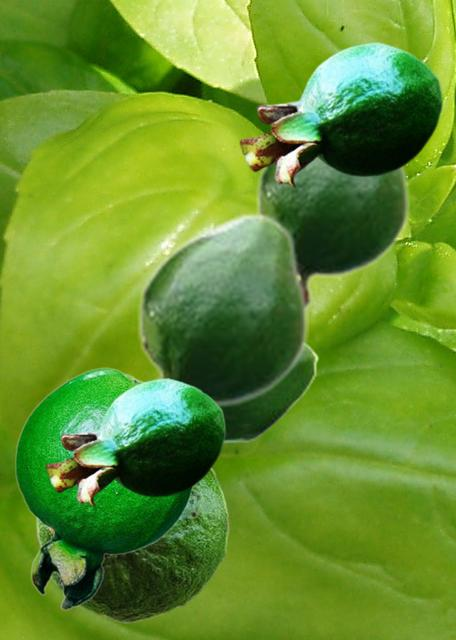guava: (14, 367, 193, 609), (132, 211, 307, 412), (35, 466, 229, 623), (239, 41, 442, 187), (251, 159, 408, 313), (45, 377, 225, 506), (223, 340, 318, 447)
